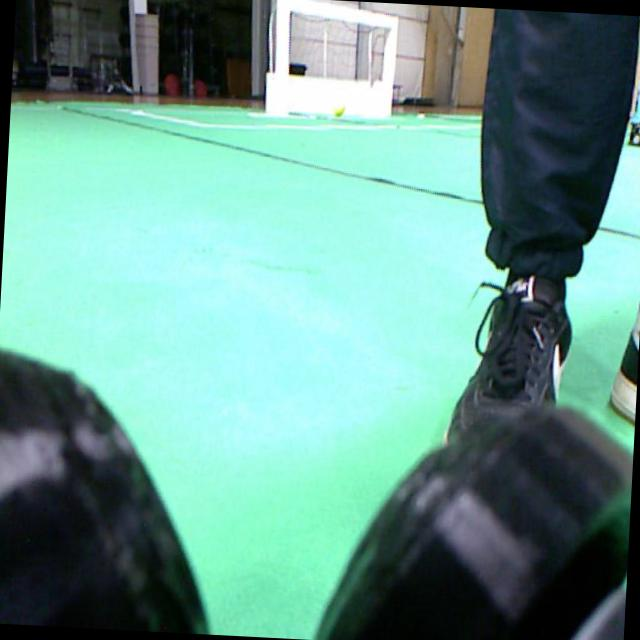ball: (334, 103, 345, 117)
goal: (273, 0, 292, 115), (382, 16, 399, 116)
